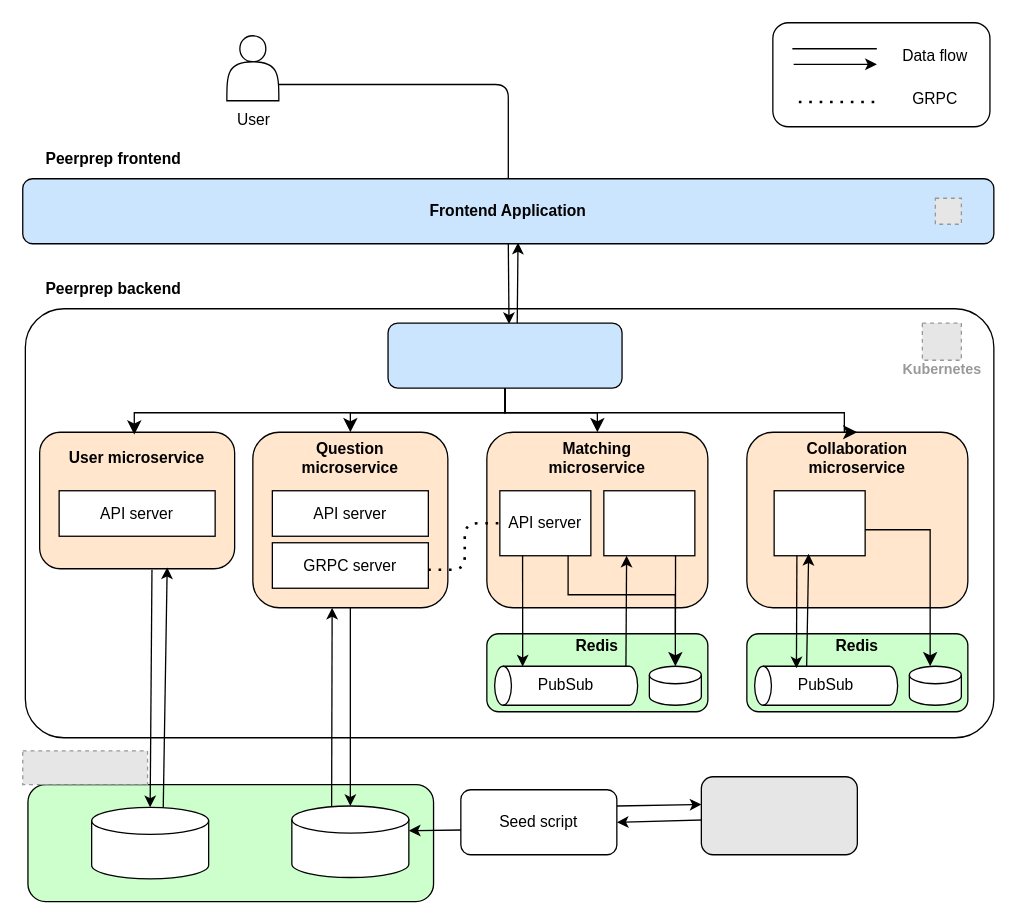
Some shapes in this 1017 by 924 pixel diagram are drawn without their labels. Grey dashed boxes stand in for pictures. Here are the shapes that lost their labels. From the top down, the box of each, then its label:
(387, 322, 622, 388): API Gateway
(603, 489, 695, 556): Matchmaker
(773, 489, 865, 556): Websocket server
(700, 775, 857, 855): Leetcode API
